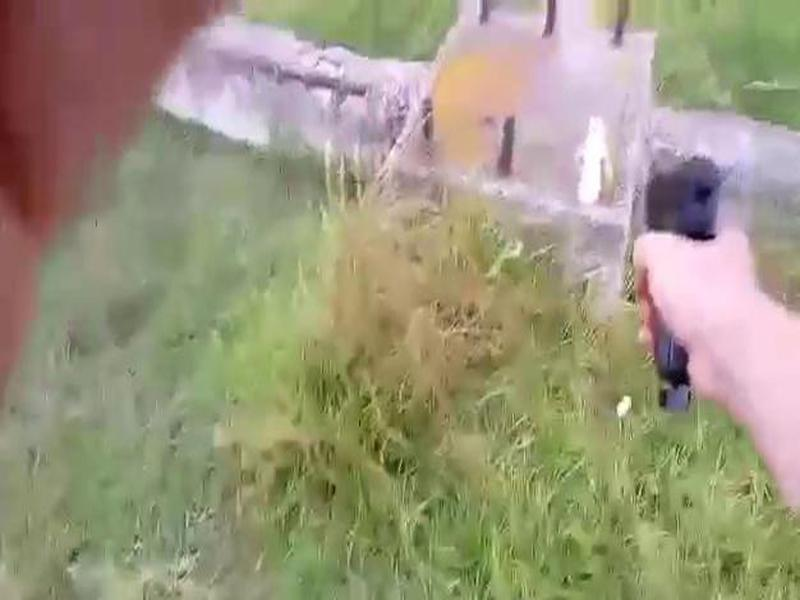Pistola: (615, 154, 754, 411)
